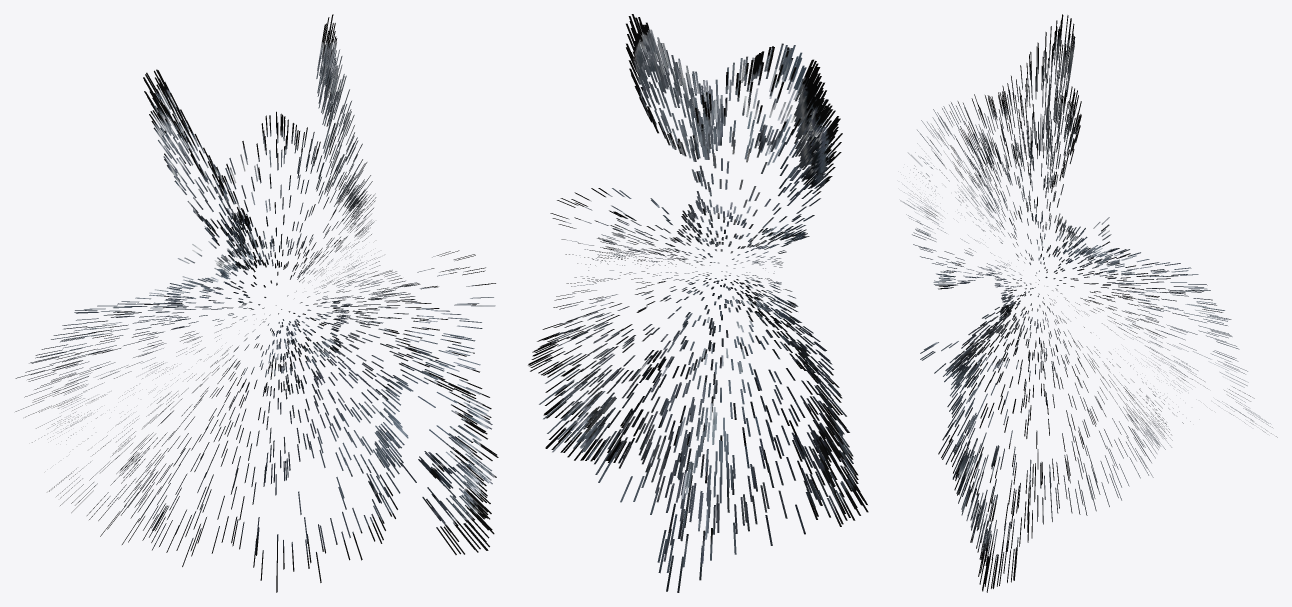
The model's file is points.glb.
3 renders of one model, left to right at view 1: azimuth 30°, elevation 25°; view 2: azimuth 150°, elevation 25°; view 3: azimuth 270°, elevation 25°, orthographic. The views are drawn at different scales.
Parts seen in each view (by area): view 1: reconstruction; view 2: reconstruction; view 3: reconstruction.
Boxes of the visible parts, <box> form: reconstruction: <box>15,14,498,592</box>; reconstruction: <box>528,14,868,592</box>; reconstruction: <box>900,14,1277,592</box>.
Bounding box in the file's own units: 1.03 × 1.34 × 1.01.
Materials: 1 (1 with a texture image).
